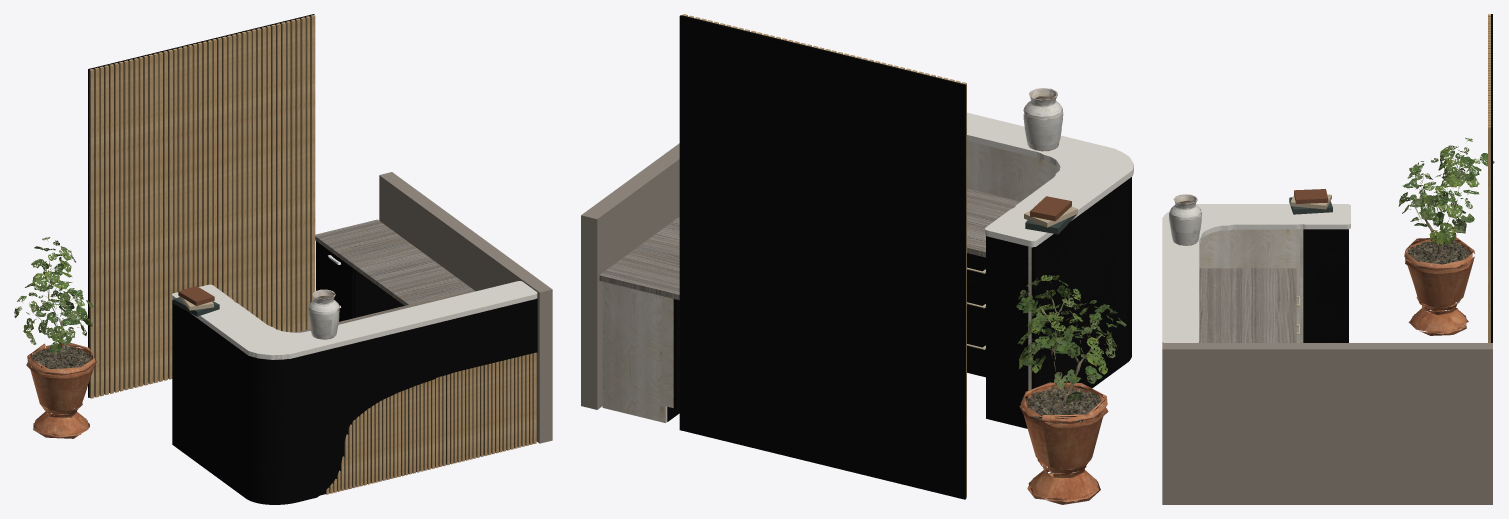
Rendered from reception-desk.glb.
The picture shows the model from 3 angles, left to right: view 1: azimuth 30°, elevation 25°; view 2: azimuth 150°, elevation 25°; view 3: azimuth 270°, elevation 25°; orthographic projection. The views are drawn at different scales.
Parts seen in each view (by area): view 1: reception-desk.001, mv_reception-desk_000; view 2: reception-desk.001, mv_reception-desk_003, mv_reception-desk_004; view 3: reception-desk.001.
Boxes of the visible parts, x1,y1,x2,y2 form: reception-desk.001: (14, 14, 552, 504); mv_reception-desk_000: (319, 243, 353, 309); reception-desk.001: (581, 14, 1133, 504); mv_reception-desk_003: (967, 279, 985, 325); mv_reception-desk_004: (967, 321, 985, 366); reception-desk.001: (1162, 14, 1494, 504).
Bounding box in the file's own units: 3.1 × 2.43 × 2.17.
16 materials, 10 textured.
